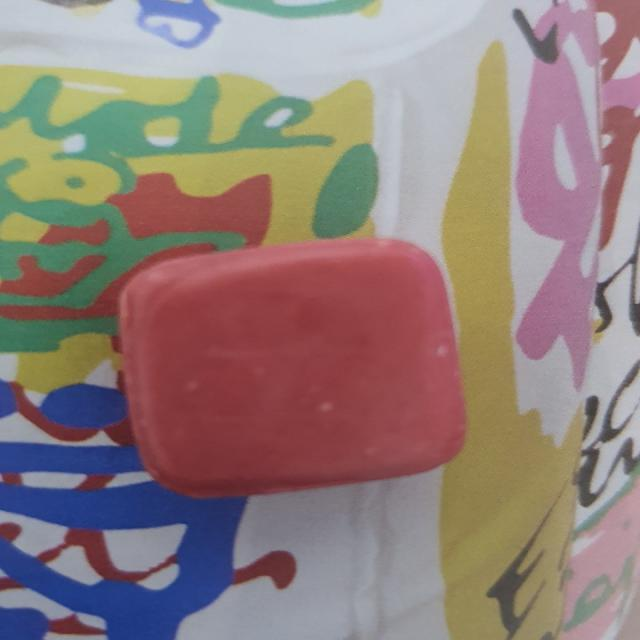pill: (82, 228, 486, 502)
